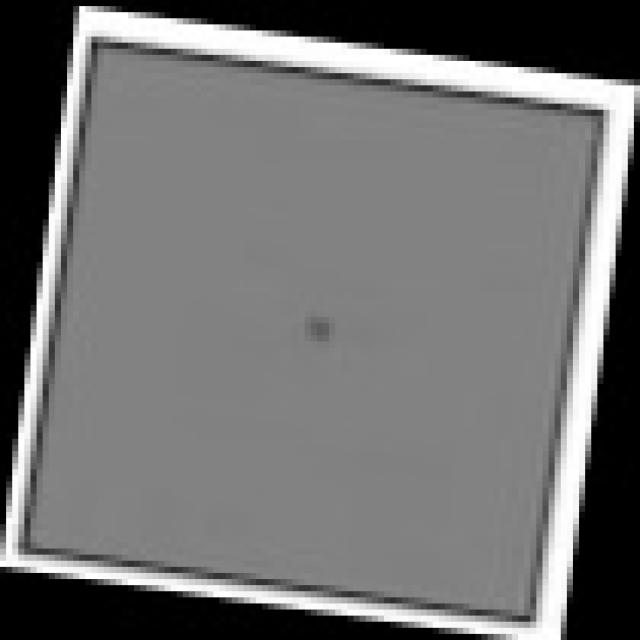Defect2: (276, 279, 361, 385)
